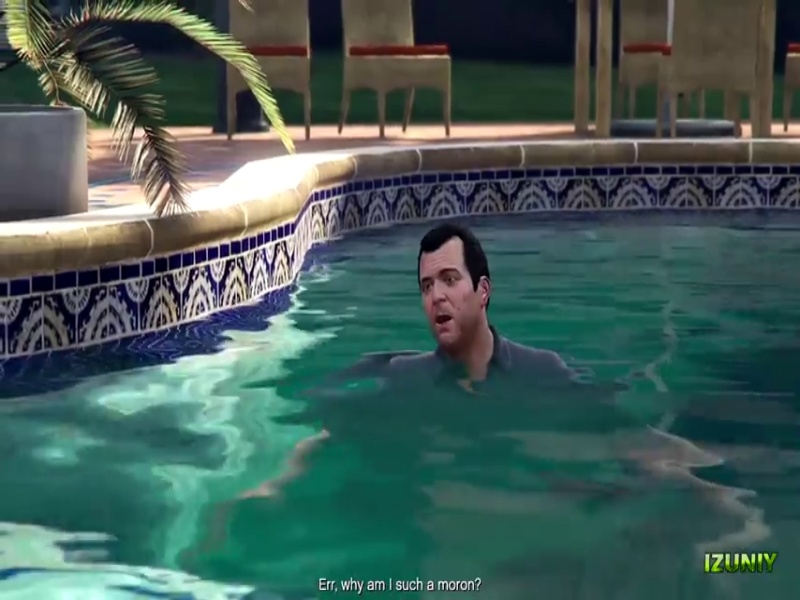human: (362, 223, 618, 404)
